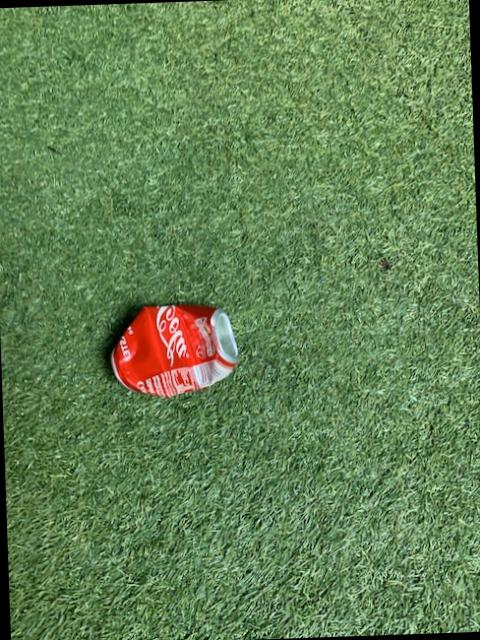metal: (113, 304, 239, 396)
